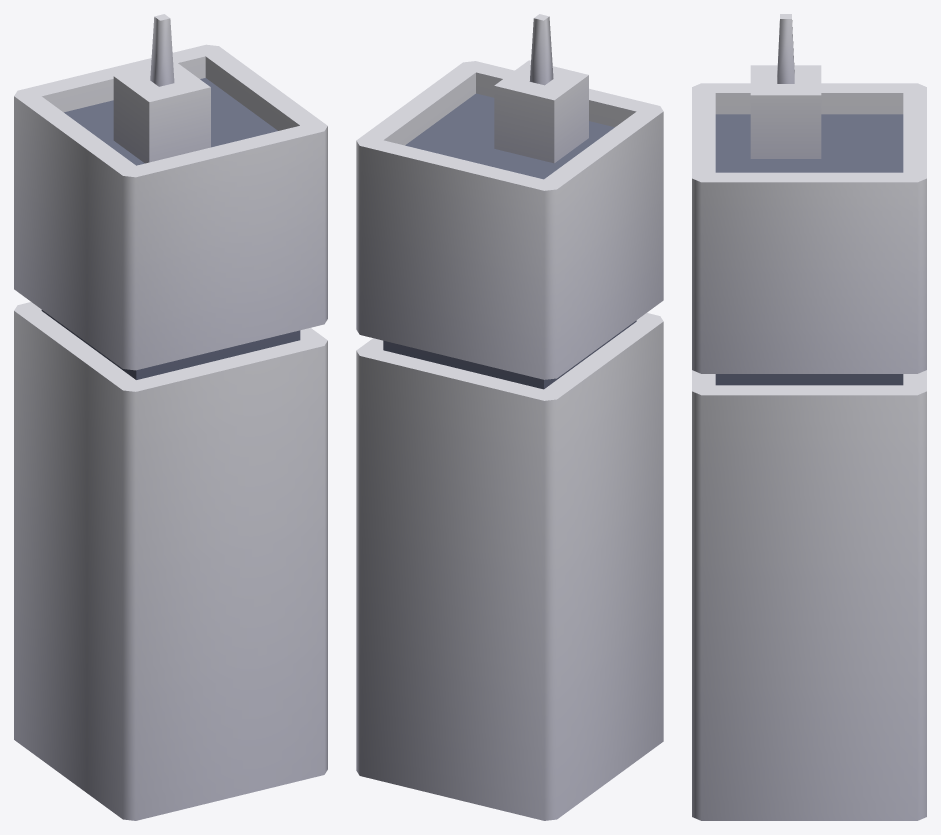
Rendered from low-detail-building-d.glb.
The picture shows the model from 3 angles, left to right: view 1: azimuth 30°, elevation 25°; view 2: azimuth 150°, elevation 25°; view 3: azimuth 270°, elevation 25°; orthographic projection. The views are drawn at different scales.
Visible parts, largest first — view 1: low-detail-building-d; view 2: low-detail-building-d; view 3: low-detail-building-d.
Part boxes in pixels (x1=…): low-detail-building-d: x1=14, y1=14, x2=327, y2=820; low-detail-building-d: x1=356, y1=14, x2=663, y2=820; low-detail-building-d: x1=692, y1=14, x2=926, y2=820.
Size of the model in its own units: 0.5 by 1.75 by 0.5.
Materials: 1 (1 with a texture image).
